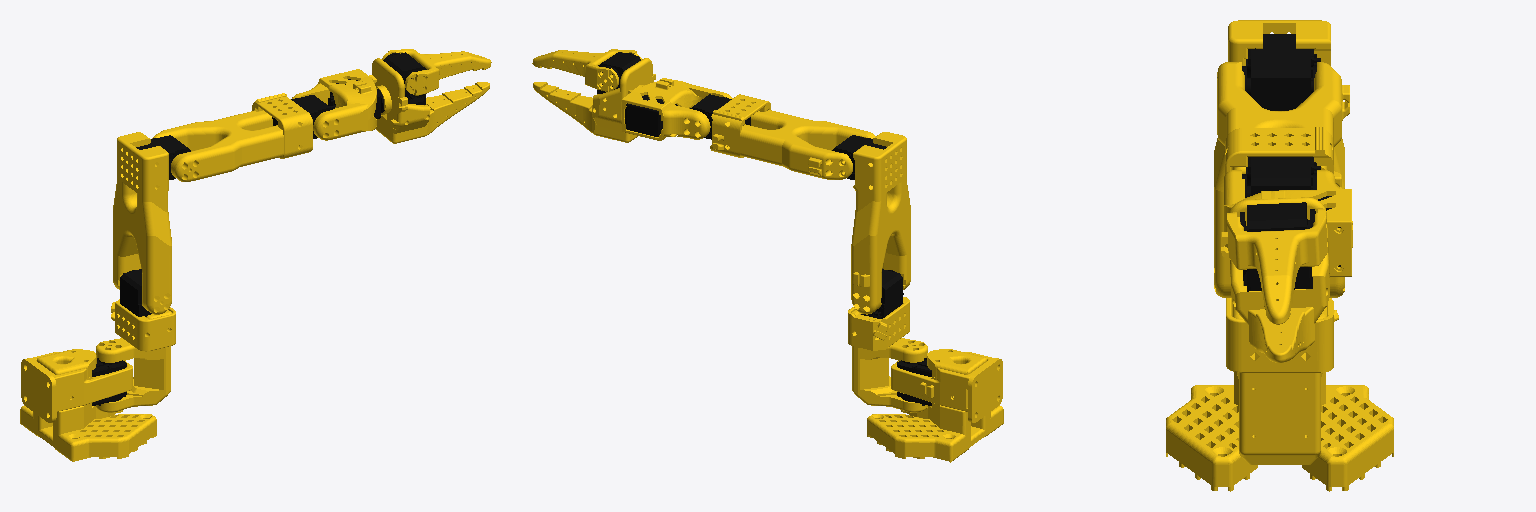
The robot description file, URDF, robot "so101_new_calib":
<?xml version="1.0" encoding="utf-8"?>
<!-- Generated using onshape-to-robot -->
<!-- Onshape https://cad.onshape.com/documents/7715cc284bb430fe6dab4ffd/w/4fd0791b683777b02f8d975a/e/826c553ede3b7592eb9ca800 -->
<robot name="so101_new_calib">

  <!-- Materials -->
  <material name="3d_printed">
    <color rgba="1.0 0.82 0.12 1.0"/>
  </material>
  <material name="sts3215">
    <color rgba="0.1 0.1 0.1 1.0"/>
  </material>

  <!-- Link base -->
  <link name="base_link">
    <inertial>
      <origin xyz="0.0137179 -5.19711e-05 0.0334843" rpy="0 0 0"/>
      <mass value="0.147"/>
      <inertia ixx="0.000114686" ixy="-4.59787e-07" ixz="4.97151e-06" iyy="0.000136117" iyz="9.75275e-08" izz="0.000130364"/>
    </inertial>
    <!-- Part base_motor_holder_so101_v1 -->
    <visual>
      <origin xyz="-0.00636471 -9.94414e-05 -0.0024" rpy="1.5708 -1.67685e-15 1.5708"/>
      <geometry>
        <mesh filename="meshes/SO101/visual/base_motor_holder_so101_v1.dae"/>
      </geometry>
      <material name="3d_printed"/>
    </visual>
    <!--<collision>
      <origin xyz="-0.00636471 -9.94414e-05 -0.0024" rpy="1.5708 -1.67685e-15 1.5708"/>
      <geometry>
        <mesh filename="meshes/SO101/visual/base_motor_holder_so101_v1.dae"/>
      </geometry>
    </collision>-->
    <!-- Part base_so101_v2 -->
    <visual>
      <origin xyz="-0.00636471 -8.97657e-09 -0.0024" rpy="1.5708 -2.78073e-29 1.5708"/>
      <geometry>
        <mesh filename="meshes/SO101/visual/base_so101_v2.dae"/>
      </geometry>
      <material name="3d_printed"/>
    </visual>
    <!--<collision>
      <origin xyz="-0.00636471 -8.97657e-09 -0.0024" rpy="1.5708 -2.78073e-29 1.5708"/>
      <geometry>
        <mesh filename="meshes/SO101/visual/base_so101_v2.dae"/>
      </geometry>
    </collision>-->
    <!-- Part sts3215_03a_v1 -->
    <visual>
      <origin xyz="0.0263353 -8.97657e-09 0.0437" rpy="-8.21148e-16 7.84513e-18 1.249e-15"/>
      <geometry>
        <mesh filename="meshes/SO101/visual/sts3215_03a_v1.dae"/>
      </geometry>
      <material name="sts3215"/>
    </visual>
    <!--<collision>
      <origin xyz="0.0263353 -8.97657e-09 0.0437" rpy="-8.21148e-16 7.84513e-18 1.249e-15"/>
      <geometry>
        <mesh filename="meshes/SO101/visual/sts3215_03a_v1.dae"/>
      </geometry>
    </collision>-->
    <!-- Part waveshare_mounting_plate_so101_v2 -->
    <visual>
      <origin xyz="-0.0309827 -0.000199441 0.0474" rpy="1.5708 -1.35493e-14 1.5708"/>
      <geometry>
        <mesh filename="meshes/SO101/visual/waveshare_mounting_plate_so101_v2.dae"/>
      </geometry>
      <material name="3d_printed"/>
    </visual>
    <!--<collision>
      <origin xyz="-0.0309827 -0.000199441 0.0474" rpy="1.5708 -1.35493e-14 1.5708"/>
      <geometry>
        <mesh filename="meshes/SO101/visual/waveshare_mounting_plate_so101_v2.dae"/>
      </geometry>
    </collision>-->
  </link>

  <!-- Link shoulder -->
  <link name="shoulder_link">
    <inertial>
      <origin xyz="-0.0307604 -1.66727e-05 -0.0252713" rpy="0 0 0"/>
      <mass value="0.100006"/>
      <inertia ixx="8.3759e-05" ixy="7.55525e-08" ixz="-1.16342e-06" iyy="8.10403e-05" iyz="1.54663e-07" izz="2.39783e-05"/>
    </inertial>
    <!-- Part sts3215_03a_v1_2 -->
    <visual>
      <origin xyz="-0.0303992 0.000422241 -0.0417" rpy="1.5708 1.5708 0"/>
      <geometry>
        <mesh filename="meshes/SO101/visual/sts3215_03a_v1.dae"/>
      </geometry>
      <material name="sts3215"/>
    </visual>
    <!--<collision>
      <origin xyz="-0.0303992 0.000422241 -0.0417" rpy="1.5708 1.5708 0"/>
      <geometry>
        <mesh filename="meshes/SO101/visual/sts3215_03a_v1.dae"/>
      </geometry>
    </collision>-->
    <!-- Part motor_holder_so101_base_v1 -->
    <visual>
      <origin xyz="-0.0675992 -0.000177759 0.0158499" rpy="1.5708 -1.5708 0"/>
      <geometry>
        <mesh filename="meshes/SO101/visual/motor_holder_so101_base_v1.dae"/>
      </geometry>
      <material name="3d_printed"/>
    </visual>
    <!--<collision>
      <origin xyz="-0.0675992 -0.000177759 0.0158499" rpy="1.5708 -1.5708 0"/>
      <geometry>
        <mesh filename="meshes/SO101/visual/motor_holder_so101_base_v1.dae"/>
      </geometry>
    </collision>-->
    <!-- Part rotation_pitch_so101_v1 -->
    <visual>
      <origin xyz="0.0122008 2.22413e-05 0.0464" rpy="-1.5708 2.35221e-33 0"/>
      <geometry>
        <mesh filename="meshes/SO101/visual/rotation_pitch_so101_v1.dae"/>
      </geometry>
      <material name="3d_printed"/>
    </visual>
    <!--<collision>
      <origin xyz="0.0122008 2.22413e-05 0.0464" rpy="-1.5708 2.35221e-33 0"/>
      <geometry>
        <mesh filename="meshes/SO101/visual/rotation_pitch_so101_v1.dae"/>
      </geometry>
    </collision>-->
  </link>

  <!-- Link upper_arm -->
  <link name="upper_arm_link">
    <inertial>
      <origin xyz="-0.0898471 -0.00838224 0.0184089" rpy="0 0 0"/>
      <mass value="0.103"/>
      <inertia ixx="4.08002e-05" ixy="-1.97819e-05" ixz="-4.03016e-08" iyy="0.000147318" iyz="8.97326e-09" izz="0.000142487"/>
    </inertial>
    <!-- Part sts3215_03a_v1_3 -->
    <visual>
      <origin xyz="-0.11257 -0.0155 0.0187" rpy="-3.14159 -5.27356e-16 -1.5708"/>
      <geometry>
        <mesh filename="meshes/SO101/visual/sts3215_03a_v1.dae"/>
      </geometry>
      <material name="sts3215"/>
    </visual>
    <!--<collision>
      <origin xyz="-0.11257 -0.0155 0.0187" rpy="-3.14159 -5.27356e-16 -1.5708"/>
      <geometry>
        <mesh filename="meshes/SO101/visual/sts3215_03a_v1.dae"/>
      </geometry>
    </collision>-->
    <!-- Part upper_arm_so101_v1 -->
    <visual>
      <origin xyz="-0.065085 0.012 0.0182" rpy="3.14159 -0 -1.30911e-30"/>
      <geometry>
        <mesh filename="meshes/SO101/visual/upper_arm_so101_v1.dae"/>
      </geometry>
      <material name="3d_printed"/>
    </visual>
    <!--<collision>
      <origin xyz="-0.065085 0.012 0.0182" rpy="3.14159 -0 -1.30911e-30"/>
      <geometry>
        <mesh filename="meshes/SO101/visual/upper_arm_so101_v1.dae"/>
      </geometry>
    </collision>-->
  </link>

  <!-- Link lower_arm -->
  <link name="lower_arm_link">
    <inertial>
      <origin xyz="-0.0980701 0.00324376 0.0182831" rpy="0 0 0"/>
      <mass value="0.104"/>
      <inertia ixx="2.87438e-05" ixy="7.41152e-06" ixz="1.26409e-06" iyy="0.000159844" iyz="-4.90188e-08" izz="0.00014529"/>
    </inertial>
    <!-- Part under_arm_so101_v1 -->
    <visual>
      <origin xyz="-0.0648499 -0.032 0.0182" rpy="3.14159 -0 6.67202e-31"/>
      <geometry>
        <mesh filename="meshes/SO101/visual/under_arm_so101_v1.dae"/>
      </geometry>
      <material name="3d_printed"/>
    </visual>
    <!--<collision>
      <origin xyz="-0.0648499 -0.032 0.0182" rpy="3.14159 -0 6.67202e-31"/>
      <geometry>
        <mesh filename="meshes/SO101/visual/under_arm_so101_v1.dae"/>
      </geometry>
    </collision>-->
    <!-- Part motor_holder_so101_wrist_v1 -->
    <visual>
      <origin xyz="-0.0648499 -0.032 0.018" rpy="-3.14159 -2.55351e-15 -1.83387e-30"/>
      <geometry>
        <mesh filename="meshes/SO101/visual/motor_holder_so101_wrist_v1.dae"/>
      </geometry>
      <material name="3d_printed"/>
    </visual>
    <!--<collision>
      <origin xyz="-0.0648499 -0.032 0.018" rpy="-3.14159 -2.55351e-15 -1.83387e-30"/>
      <geometry>
        <mesh filename="meshes/SO101/visual/motor_holder_so101_wrist_v1.dae"/>
      </geometry>
    </collision>-->
    <!-- Part sts3215_03a_v1_4 -->
    <visual>
      <origin xyz="-0.1224 0.0052 0.0187" rpy="-3.14159 -7.88861e-31 -3.14159"/>
      <geometry>
        <mesh filename="meshes/SO101/visual/sts3215_03a_v1.dae"/>
      </geometry>
      <material name="sts3215"/>
    </visual>
    <!--<collision>
      <origin xyz="-0.1224 0.0052 0.0187" rpy="-3.14159 -7.88861e-31 -3.14159"/>
      <geometry>
        <mesh filename="meshes/SO101/visual/sts3215_03a_v1.dae"/>
      </geometry>
    </collision>-->
  </link>

  <!-- Link wrist -->
  <link name="wrist_link">
    <inertial>
      <origin xyz="-0.000103312 -0.0386143 0.0281156" rpy="0 0 0"/>
      <mass value="0.079"/>
      <inertia ixx="3.68263e-05" ixy="1.7893e-08" ixz="-5.28128e-08" iyy="2.5391e-05" iyz="3.6412e-06" izz="2.1e-05"/>
    </inertial>
    <!-- Part sts3215_03a_no_horn_v1 -->
    <visual>
      <origin xyz="8.32667e-17 -0.0424 0.0306" rpy="1.5708 1.5708 0"/>
      <geometry>
        <mesh filename="meshes/SO101/visual/sts3215_03a_no_horn_v1.dae"/>
      </geometry>
      <material name="sts3215"/>
    </visual>
    <!--<collision>
      <origin xyz="8.32667e-17 -0.0424 0.0306" rpy="1.5708 1.5708 0"/>
      <geometry>
        <mesh filename="meshes/SO101/visual/sts3215_03a_no_horn_v1.dae"/>
      </geometry>
    </collision>-->
    <!-- Part wrist_roll_pitch_so101_v2 -->
    <visual>
      <origin xyz="0 -0.028 0.0181" rpy="-1.5708 -1.5708 0"/>
      <geometry>
        <mesh filename="meshes/SO101/visual/wrist_roll_pitch_so101_v2.dae"/>
      </geometry>
      <material name="3d_printed"/>
    </visual>
    <!--<collision>
      <origin xyz="0 -0.028 0.0181" rpy="-1.5708 -1.5708 0"/>
      <geometry>
        <mesh filename="meshes/SO101/visual/wrist_roll_pitch_so101_v2.dae"/>
      </geometry>
    </collision>-->
  </link>

  <!-- Link gripper -->
  <link name="gripper_link">
    <inertial>
      <origin xyz="0.000213627 0.000245138 -0.025187" rpy="0 0 0"/>
      <mass value="0.087"/>
      <inertia ixx="2.75087e-05" ixy="-3.35241e-07" ixz="-5.7352e-06" iyy="4.33657e-05" iyz="-5.17847e-08" izz="3.45059e-05"/>
    </inertial>
    <!-- Part sts3215_03a_v1_5 -->
    <visual>
      <origin xyz="0.0077 0.0001 -0.0234" rpy="-1.5708 -5.19179e-17 -1.66533e-16"/>
      <geometry>
        <mesh filename="meshes/SO101/visual/sts3215_03a_v1.dae"/>
      </geometry>
      <material name="sts3215"/>
    </visual>
    <!--<collision>
      <origin xyz="0.0077 0.0001 -0.0234" rpy="-1.5708 -5.19179e-17 -1.66533e-16"/>
      <geometry>
        <mesh filename="meshes/SO101/visual/sts3215_03a_v1.dae"/>
      </geometry>
    </collision>-->
    <!-- Part wrist_roll_follower_so101_v1 -->
    <visual>
      <origin xyz="8.32667e-17 -0.000218214 0.000949706" rpy="-3.14159 -5.55112e-17 0"/>
      <geometry>
        <mesh filename="meshes/SO101/visual/wrist_roll_follower_so101_v1.dae"/>
      </geometry>
      <material name="3d_printed"/>
    </visual>
    <!--<collision>
      <origin xyz="8.32667e-17 -0.000218214 0.000949706" rpy="-3.14159 -5.55112e-17 0"/>
      <geometry>
        <mesh filename="meshes/SO101/visual/wrist_roll_follower_so101_v1.dae"/>
      </geometry>
    </collision>-->
  </link>

  <!-- Gripper frame (dummy link + fixed joint) -->
  <link name="gripper_frame_link">
    <origin xyz="0 0 0" rpy="0 -0 0"/>
    <inertial>
      <origin xyz="0 0 0" rpy="0 0 0"/>
      <mass value="1e-9"/>
      <inertia ixx="0" ixy="0" ixz="0" iyy="0" iyz="0" izz="0"/>
    </inertial>
  </link>

  <joint name="gripper_frame_joint" type="fixed">
    <origin xyz="-0.0079 -0.000218121 -0.0981274" rpy="0 3.14159 0"/>
    <parent link="gripper_link"/>
    <child link="gripper_frame_link"/>
    <axis xyz="0 0 0"/>
  </joint>

  <!-- Link moving_jaw_so101_v1 -->
  <link name="moving_jaw_so101_v1_link">
    <inertial>
      <origin xyz="-0.00157495 -0.0300244 0.0192755" rpy="0 0 0"/>
      <mass value="0.012"/>
      <inertia ixx="6.61427e-06" ixy="-3.19807e-07" ixz="-5.90717e-09" iyy="1.89032e-06" iyz="-1.09945e-07" izz="5.28738e-06"/>
    </inertial>
    <!-- Part moving_jaw_so101_v1 -->
    <visual>
      <origin xyz="-5.55112e-17 -5.55112e-17 0.0189" rpy="9.53145e-17 6.93889e-18 1.24077e-24"/>
      <geometry>
        <mesh filename="meshes/SO101/visual/moving_jaw_so101_v1.dae"/>
      </geometry>
      <material name="3d_printed"/>
    </visual>
    <!--<collision>
      <origin xyz="-5.55112e-17 -5.55112e-17 0.0189" rpy="9.53145e-17 6.93889e-18 1.24077e-24"/>
      <geometry>
        <mesh filename="meshes/SO101/visual/moving_jaw_so101_v1.dae"/>
      </geometry>
    </collision>-->
  </link>

  <!-- Joint from gripper to moving_jaw_so101_v1 -->
  <joint name="gripper" type="revolute">
    <origin xyz="0.0202 0.0188 -0.0234" rpy="1.5708 -5.24284e-08 -1.41553e-15"/>
    <parent link="gripper_link"/>
    <child link="moving_jaw_so101_v1_link"/>
    <axis xyz="0 0 1"/>
    <limit effort="10" velocity="10" lower="-0.174533" upper="1.74533"/>
  </joint>

  <transmission name="gripper_trans">
    <type>transmission_interface/SimpleTransmission</type>
    <joint name="gripper">
      <hardwareInterface>hardware_interface/PositionJointInterface</hardwareInterface>
    </joint>
    <actuator name="motor6">
      <hardwareInterface>hardware_interface/PositionJointInterface</hardwareInterface>
      <mechanicalReduction>1</mechanicalReduction>
    </actuator>
  </transmission>

  <!-- Joint from wrist to gripper -->
  <joint name="wrist_roll" type="revolute">
    <origin xyz="5.55112e-17 -0.0611 0.0181" rpy="1.5708 0.0486795 3.14159"/>
    <parent link="wrist_link"/>
    <child link="gripper_link"/>
    <axis xyz="0 0 1"/>
    <limit effort="10" velocity="10" lower="-2.74385" upper="2.84121"/>
  </joint>

  <transmission name="wrist_roll_trans">
    <type>transmission_interface/SimpleTransmission</type>
    <joint name="wrist_roll">
      <hardwareInterface>hardware_interface/PositionJointInterface</hardwareInterface>
    </joint>
    <actuator name="motor5">
      <hardwareInterface>hardware_interface/PositionJointInterface</hardwareInterface>
      <mechanicalReduction>1</mechanicalReduction>
    </actuator>
  </transmission>

  <!-- Joint from lower_arm to wrist -->
  <joint name="wrist_flex" type="revolute">
    <origin xyz="-0.1349 0.0052 3.62355e-17" rpy="4.02456e-15 8.67362e-16 -1.5708"/>
    <parent link="lower_arm_link"/>
    <child link="wrist_link"/>
    <axis xyz="0 0 1"/>
    <limit effort="10" velocity="10" lower="-1.65806" upper="1.65806"/>
  </joint>

  <transmission name="wrist_flex_trans">
    <type>transmission_interface/SimpleTransmission</type>
    <joint name="wrist_flex">
      <hardwareInterface>hardware_interface/PositionJointInterface</hardwareInterface>
    </joint>
    <actuator name="motor4">
      <hardwareInterface>hardware_interface/PositionJointInterface</hardwareInterface>
      <mechanicalReduction>1</mechanicalReduction>
    </actuator>
  </transmission>

  <!-- Joint from upper_arm to lower_arm -->
  <!-- Note: 5-degree calibration offset applied to joint limits -->
  <joint name="elbow_flex" type="revolute">
    <origin xyz="-0.11257 -0.028 1.73763e-16" rpy="-3.63608e-16 8.74301e-16 1.5708"/>
    <parent link="upper_arm_link"/>
    <child link="lower_arm_link"/>
    <axis xyz="0 0 1"/>
    <limit effort="10" velocity="10" lower="-1.69" upper="1.69"/>
  </joint>

  <transmission name="elbow_flex_trans">
    <type>transmission_interface/SimpleTransmission</type>
    <joint name="elbow_flex">
      <hardwareInterface>hardware_interface/PositionJointInterface</hardwareInterface>
    </joint>
    <actuator name="motor3">
      <hardwareInterface>hardware_interface/PositionJointInterface</hardwareInterface>
      <mechanicalReduction>1</mechanicalReduction>
    </actuator>
  </transmission>

  <!-- Joint from shoulder to upper_arm -->
  <joint name="shoulder_lift" type="revolute">
    <origin xyz="-0.0303992 -0.0182778 -0.0542" rpy="-1.5708 -1.5708 0"/>
    <parent link="shoulder_link"/>
    <child link="upper_arm_link"/>
    <axis xyz="0 0 1"/>
    <limit effort="10" velocity="10" lower="-1.74533" upper="1.74533"/>
  </joint>

  <transmission name="shoulder_lift_trans">
    <type>transmission_interface/SimpleTransmission</type>
    <joint name="shoulder_lift">
      <hardwareInterface>hardware_interface/PositionJointInterface</hardwareInterface>
    </joint>
    <actuator name="motor2">
      <hardwareInterface>hardware_interface/PositionJointInterface</hardwareInterface>
      <mechanicalReduction>1</mechanicalReduction>
    </actuator>
  </transmission>

  <!-- Joint from base to shoulder -->
  <joint name="shoulder_pan" type="revolute">
    <origin xyz="0.0388353 -8.97657e-09 0.0624" rpy="3.14159 4.18253e-17 -3.14159"/>
    <parent link="base_link"/>
    <child link="shoulder_link"/>
    <axis xyz="0 0 1"/>
    <limit effort="10" velocity="10" lower="-1.91986" upper="1.91986"/>
  </joint>

  <transmission name="shoulder_pan_trans">
    <type>transmission_interface/SimpleTransmission</type>
    <joint name="shoulder_pan">
      <hardwareInterface>hardware_interface/PositionJointInterface</hardwareInterface>
    </joint>
    <actuator name="motor1">
      <hardwareInterface>hardware_interface/PositionJointInterface</hardwareInterface>
      <mechanicalReduction>1</mechanicalReduction>
    </actuator>
  </transmission> 

</robot>

--- What the picture shows (computed from the rendered views, not written in the file) ---
The picture shows the robot from 3 angles, left to right: view 1: azimuth 30°, elevation 25°; view 2: azimuth 150°, elevation 25°; view 3: azimuth 270°, elevation 25°; orthographic projection.
Robot: so101_new_calib — 8 links, 7 joints (6 revolute, 1 fixed); root link base_link; default pose: every joint at zero.
Visible links, largest first — view 1: base_link, upper_arm_link, lower_arm_link, shoulder_link, gripper_link, wrist_link, moving_jaw_so101_v1_link; view 2: base_link, upper_arm_link, lower_arm_link, shoulder_link, wrist_link, gripper_link, moving_jaw_so101_v1_link; view 3: base_link, lower_arm_link, shoulder_link, upper_arm_link, gripper_link, moving_jaw_so101_v1_link, wrist_link.
Boxes of the visible links, x1,y1,x2,y2 form: base_link: (20, 349, 156, 461); upper_arm_link: (113, 132, 190, 314); lower_arm_link: (152, 93, 332, 181); shoulder_link: (96, 269, 175, 412); gripper_link: (372, 52, 489, 143); wrist_link: (292, 69, 384, 140); moving_jaw_so101_v1_link: (382, 49, 491, 95); base_link: (867, 349, 1003, 462); upper_arm_link: (832, 132, 910, 314); lower_arm_link: (690, 94, 875, 179); shoulder_link: (848, 269, 927, 412); wrist_link: (622, 78, 732, 140); gripper_link: (533, 52, 655, 142); moving_jaw_so101_v1_link: (532, 49, 641, 91); base_link: (1166, 372, 1393, 491); lower_arm_link: (1217, 62, 1349, 197); shoulder_link: (1226, 298, 1338, 464); upper_arm_link: (1214, 20, 1352, 297); gripper_link: (1221, 197, 1329, 362); moving_jaw_so101_v1_link: (1227, 208, 1327, 324); wrist_link: (1224, 170, 1351, 276).
Size in the robot's own frame: 0.4296 by 0.1109 by 0.2681 metres.
17 mesh visuals loaded from 13 distinct referenced files (13 Collada DAE).
